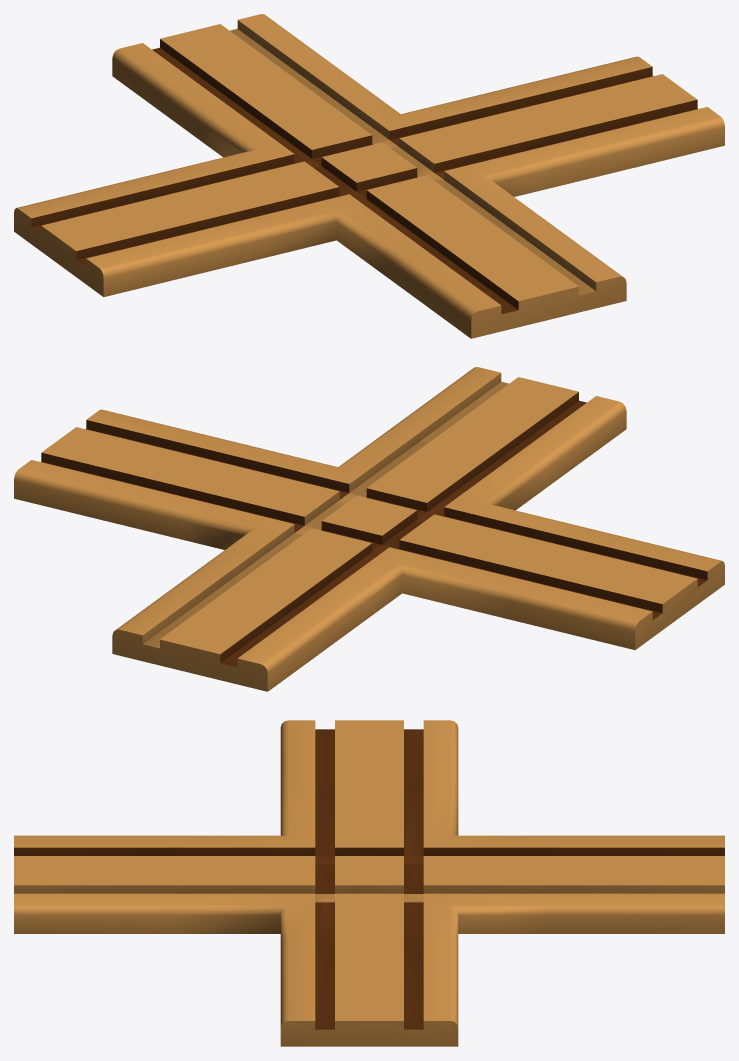
File: Cross.fbx
The picture shows the model from 3 angles, top to bottom: view 1: azimuth 30°, elevation 25°; view 2: azimuth 150°, elevation 25°; view 3: azimuth 270°, elevation 25°; orthographic projection.
Parts seen in each view (by area): view 1: Cross; view 2: Cross; view 3: Cross.
Boxes of the visible parts, x1,y1,x2,y2 form: Cross: [14, 14, 724, 338]; Cross: [14, 367, 724, 691]; Cross: [14, 720, 724, 1046].
Bounding box in the file's own units: 4 × 0.16 × 4.
